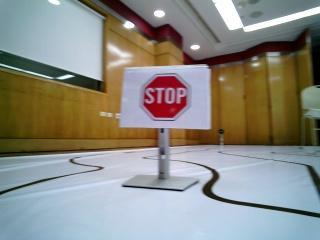stop: (133, 73, 204, 126)
